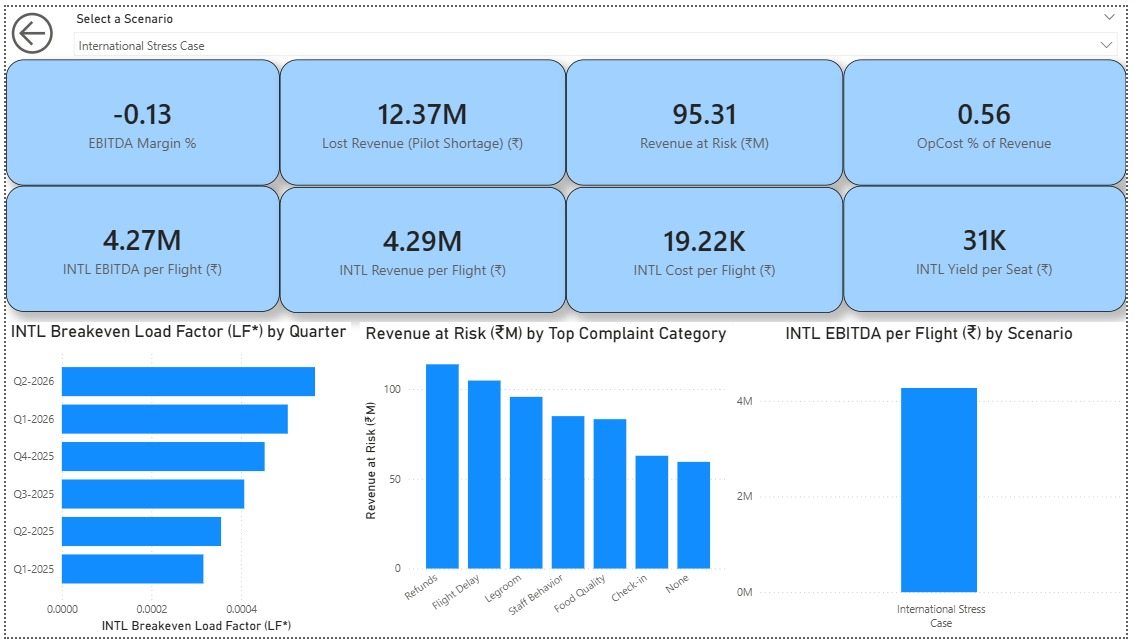

The page's visual inventory and layout, read from the dashboard file:
{"tool":"powerbi","page":{"name":"intl stats","canvas":[1280,720],"ordinal":1},"visuals":[{"type":"cardVisual","fields":{"Data":["_measures (2).EBITDA Margin %"]},"box":[0,60,312.9,144.3],"z":0,"group":"g1"},{"type":"slicer","fields":{"Values":["international data.Scenario_Name"]},"box":[67.1,0,1212.9,60],"z":0},{"type":"cardVisual","fields":{"Data":["_measures (2).Lost Revenue (Pilot Shortage) (₹)"]},"box":[312.9,60,327.1,144.3],"z":1000,"group":"g1"},{"type":"group","id":"g1","title":"Group 1","box":[0,60,1280,290],"z":1000},{"type":"barChart","fields":{"Y":["_measures (2).INTL Breakeven Load Factor (LF*)"],"Category":["Quarterly fin.Quarter"]},"box":[0,360,394.3,360],"z":1001},{"type":"clusteredColumnChart","title":"Revenue at Risk (₹M) by Top Complaint Category","fields":{"Category":["customerexp.Top_Complaint_Category"],"Y":["_measures (2).Revenue at Risk (₹M)"]},"box":[404.3,360,425.7,360],"z":1002},{"type":"actionButton","box":[0,0,100,60],"z":1003},{"type":"clusteredColumnChart","fields":{"Category":["international data.Scenario_Name"],"Y":["_measures (2).INTL EBITDA per Flight (₹)"]},"box":[830,360,450,360],"z":1004},{"type":"cardVisual","fields":{"Data":["_measures (2).Revenue at Risk (₹M)"]},"box":[640,60,317.1,144.3],"z":2000,"group":"g1"},{"type":"cardVisual","fields":{"Data":["_measures (2).OpCost % of Revenue"]},"box":[957.1,60,322.9,144.3],"z":3000,"group":"g1"},{"type":"cardVisual","fields":{"Data":["_measures (2).INTL EBITDA per Flight (₹)"]},"box":[0,204.3,312.9,144.3],"z":4000,"group":"g1"},{"type":"cardVisual","fields":{"Data":["_measures (2).INTL Revenue per Flight (₹)"]},"box":[312.9,205.7,327.1,144.3],"z":5000,"group":"g1"},{"type":"cardVisual","fields":{"Data":["_measures (2).INTL Cost per Flight (₹)"]},"box":[640,205.7,317.1,144.3],"z":6000,"group":"g1"},{"type":"cardVisual","fields":{"Data":["Quarterly fin.INTL Yield per Seat (₹)"]},"box":[957.1,204.3,322.9,144.3],"z":7000,"group":"g1"}]}

Visuals, with their boxes in screenshot pixels (x1, y1, x2, y2), scaled from the page's 1280x720 canvas onto the 1135x639 screenshot:
cardVisual - _measures (2).EBITDA Margin %: bbox=(0, 53, 277, 181)
slicer - international data.Scenario_Name: bbox=(59, 0, 1134, 53)
cardVisual - _measures (2).Lost Revenue (Pilot Shortage) (₹): bbox=(277, 53, 568, 181)
"Group 1" group: bbox=(0, 53, 1134, 311)
barChart - _measures (2).INTL Breakeven Load Factor (LF*) x Quarterly fin.Quarter: bbox=(0, 320, 350, 638)
"Revenue at Risk (₹M) by Top Complaint Category" clusteredColumnChart: bbox=(359, 320, 736, 638)
actionButton: bbox=(0, 0, 89, 53)
clusteredColumnChart - international data.Scenario_Name x _measures (2).INTL EBITDA per Flight (₹): bbox=(736, 320, 1134, 638)
cardVisual - _measures (2).Revenue at Risk (₹M): bbox=(568, 53, 849, 181)
cardVisual - _measures (2).OpCost % of Revenue: bbox=(849, 53, 1134, 181)
cardVisual - _measures (2).INTL EBITDA per Flight (₹): bbox=(0, 181, 277, 309)
cardVisual - _measures (2).INTL Revenue per Flight (₹): bbox=(277, 183, 568, 311)
cardVisual - _measures (2).INTL Cost per Flight (₹): bbox=(568, 183, 849, 311)
cardVisual - Quarterly fin.INTL Yield per Seat (₹): bbox=(849, 181, 1134, 309)
